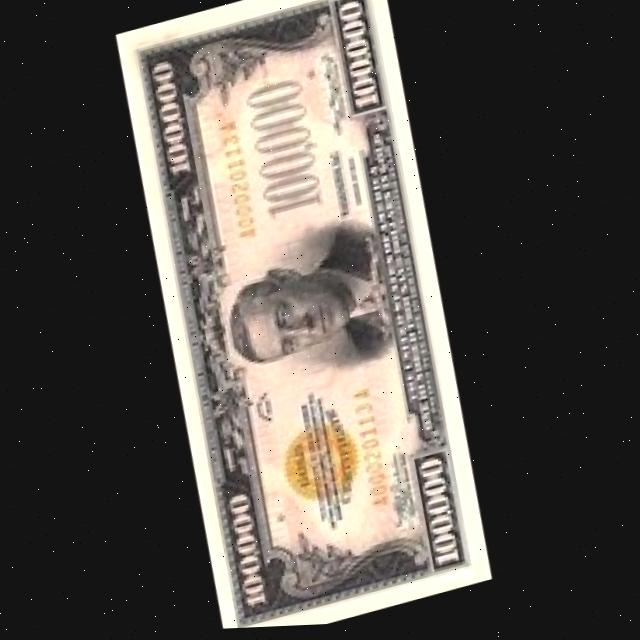banknote: (97, 0, 512, 636)
